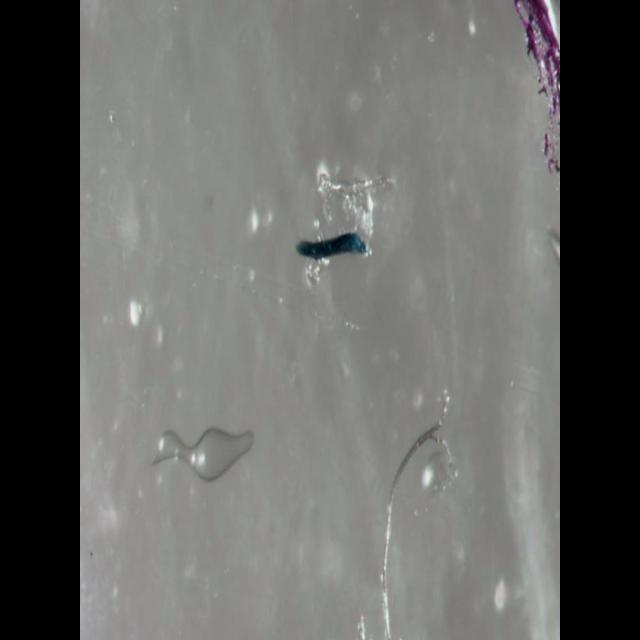Fibre: (294, 227, 370, 267)
